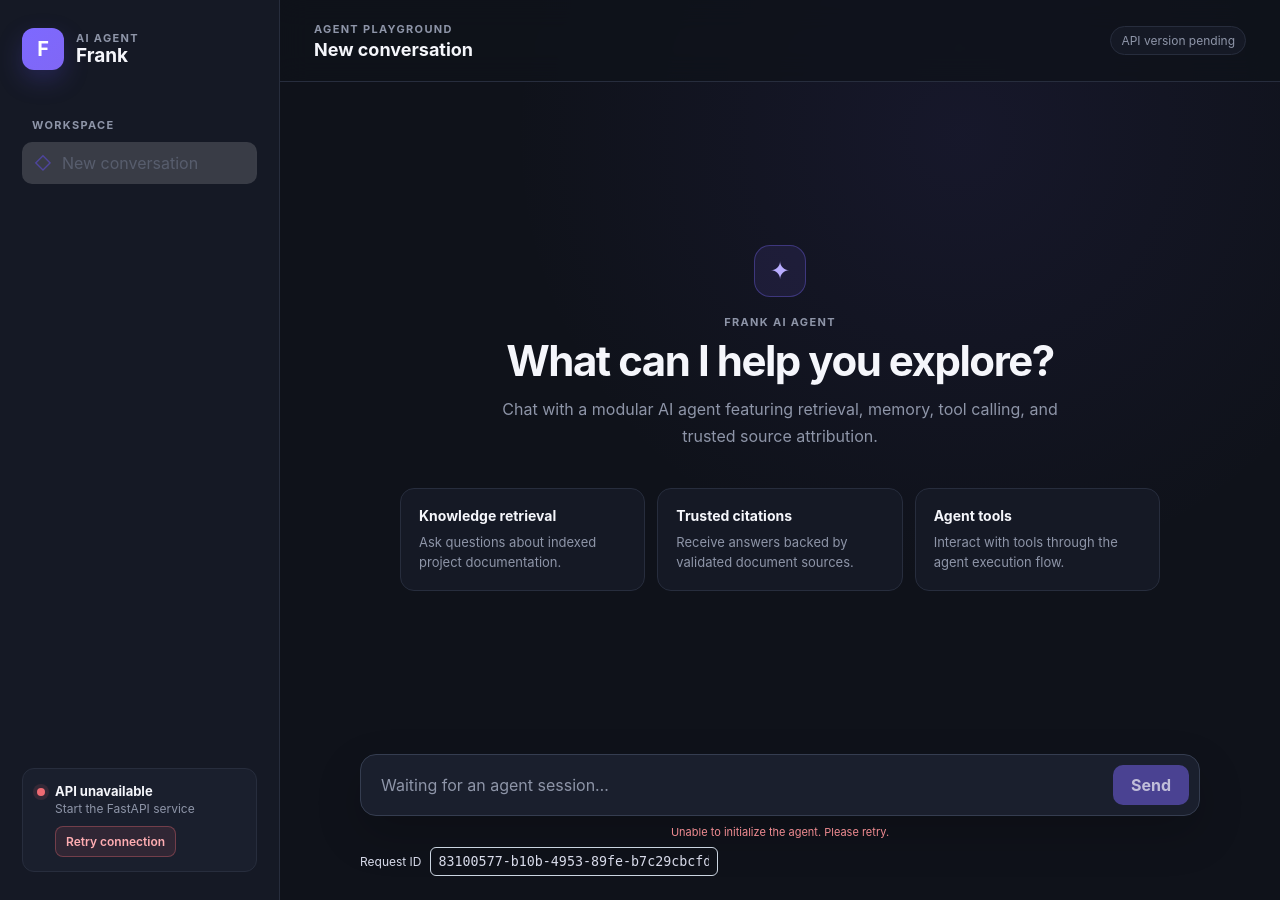
it: App › should show the initialization request ID and clear it after retrying
expect the text "API unavailable" is shown: met, box [55,783,153,799]
expect the field labelled "Request ID" holds "83100577-b10b-4953-89fe-b7c29cbcfd36": met, box [430,847,718,876]
Click the button "Retry connection". click: (116, 842)
box: [55,826,176,857]
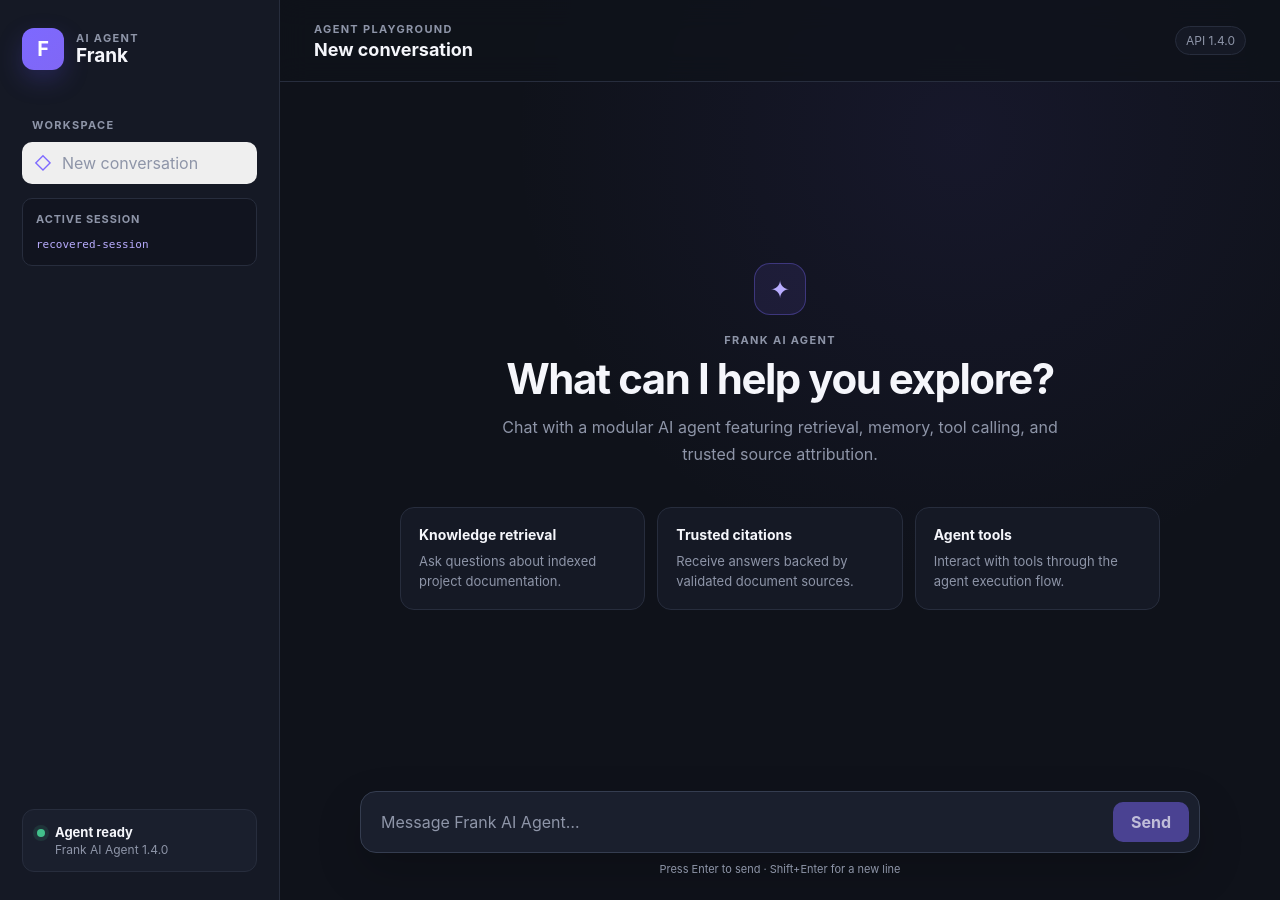
expect the text "Agent ready" is shown: met, box [55,824,133,840]
expect the text titled "recovered-session" is shown: met, box [36,238,149,251]
expect the text "Request ID" is gone: met
